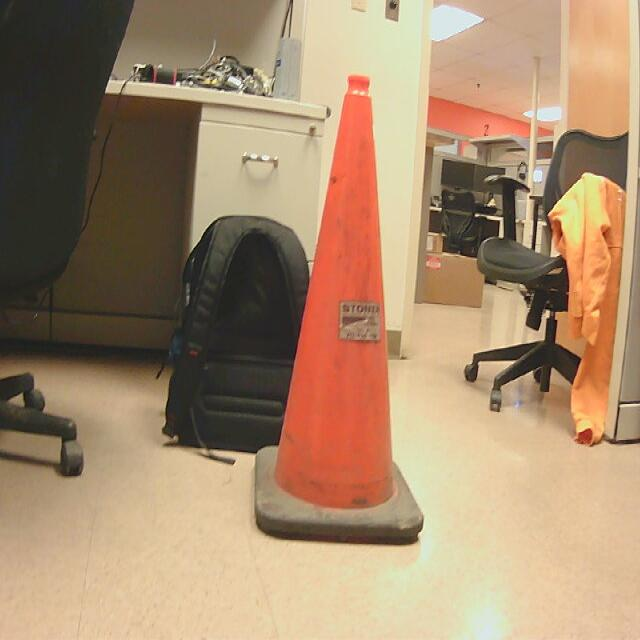traffic cone: (256, 76, 425, 550)
